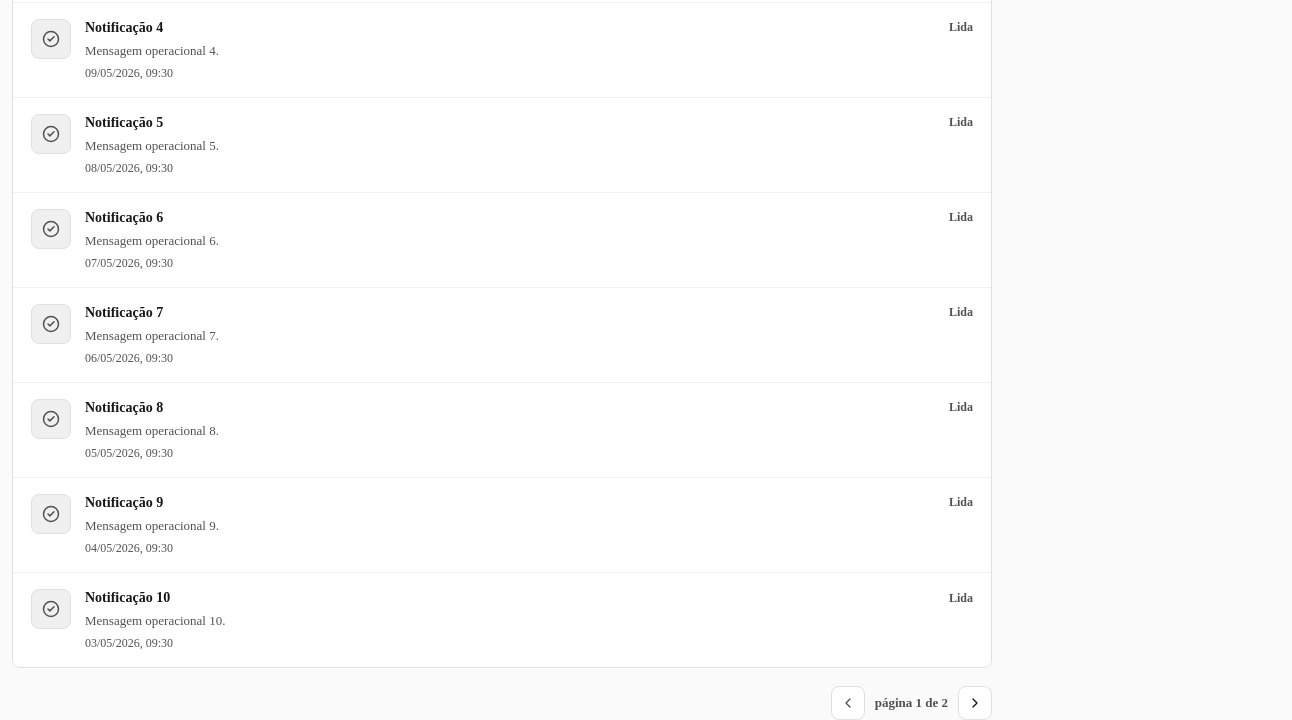
Test: Notificacoes › lists account notifications with pagination
(page scrolled)
Expected: the text "Notificação 10" is shown, [85, 589, 170, 607]
Expected: the text "Notificação 11" is not shown
Click the button named "próxima página" at {"x": 975, "y": 703}, box [958, 686, 992, 719]
(page scrolled)
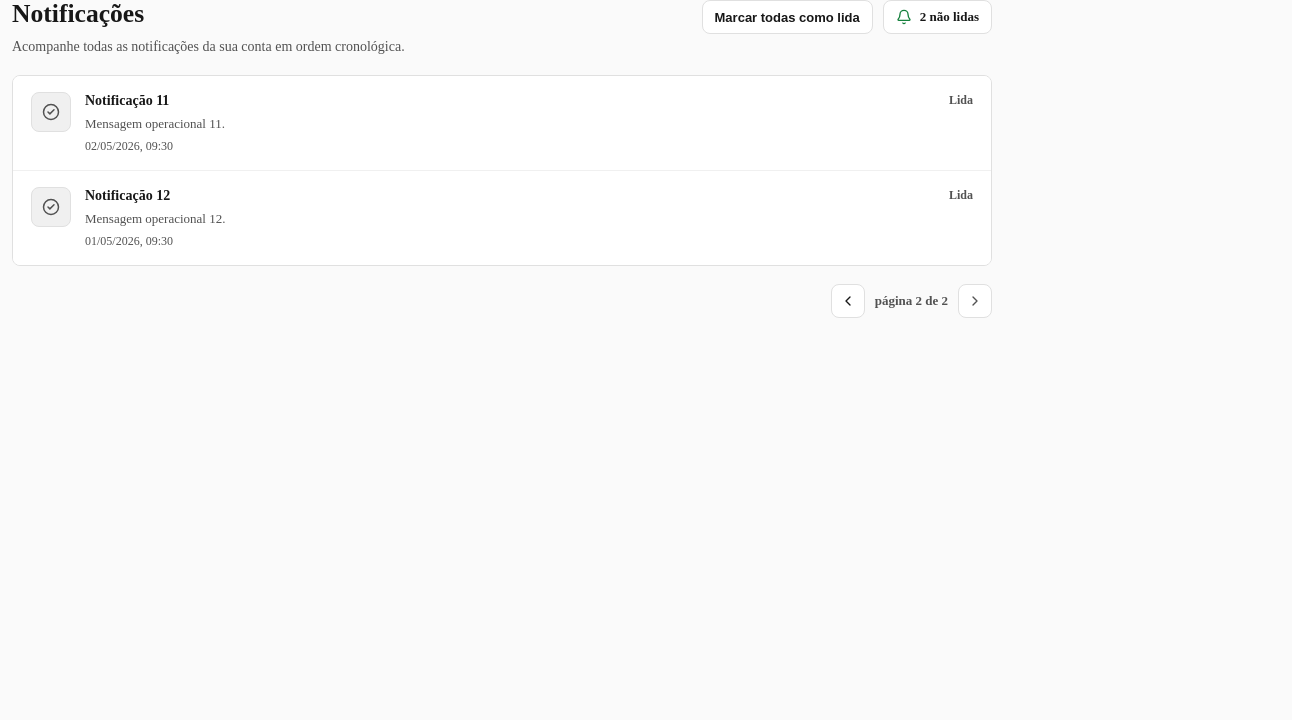
Expected: the text "Notificação 11" is shown, [85, 92, 169, 110]
Expected: the text "Notificação 12" is shown, [85, 187, 170, 205]
Expected: the text "página 2 de 2" is shown, [875, 293, 948, 309]
